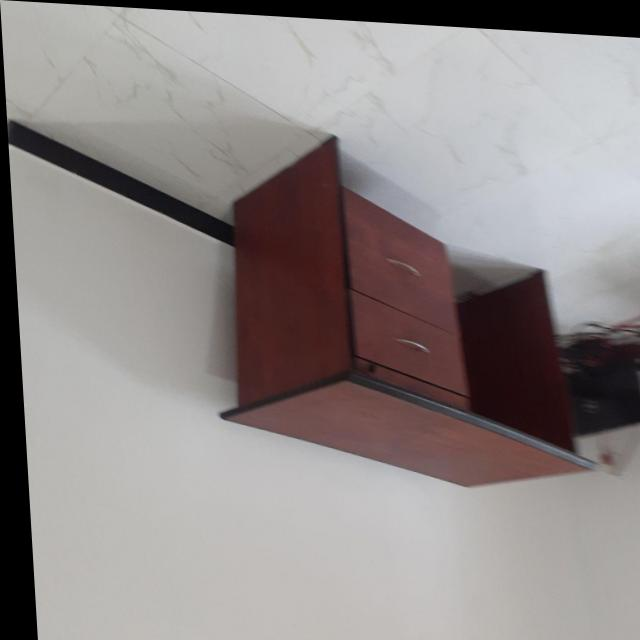Table: (164, 103, 602, 504)
